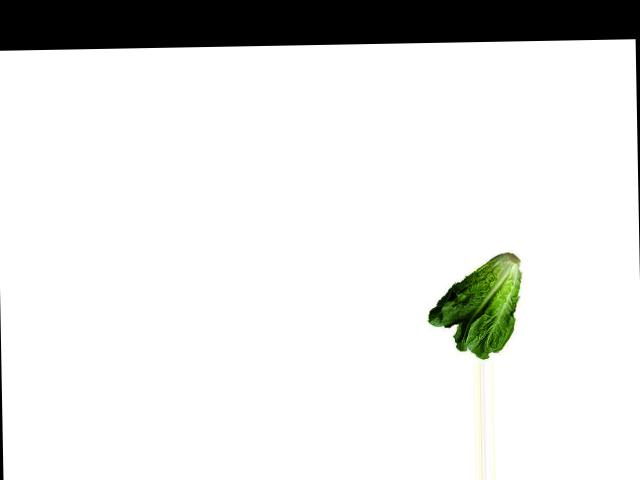lettuce: (423, 253, 526, 362)
